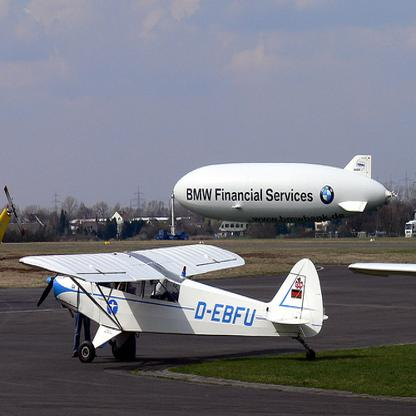Airship: (171, 153, 400, 231)
